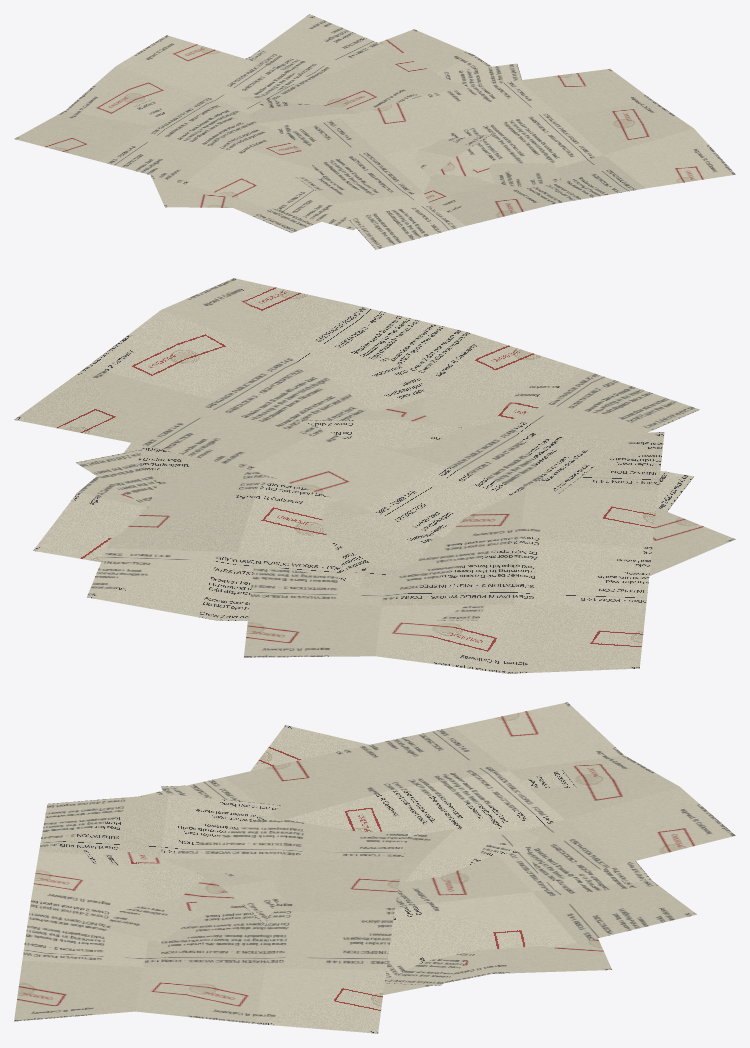
Rendered from PRP_Paper_Pile_A.glb.
3 views of the same model, one above another, from view 1: azimuth 30°, elevation 25°; view 2: azimuth 150°, elevation 25°; view 3: azimuth 270°, elevation 25° (orthographic). The views are drawn at different scales.
Parts seen in each view (by area): view 1: Sheet4, Sheet3, Sheet2, Sheet1, Sheet0; view 2: Sheet4, Sheet3, Sheet2, Sheet1, Sheet0; view 3: Sheet4, Sheet3, Sheet2, Sheet1, Sheet0.
Boxes of the visible parts, x1,y1,x2,y2 form: Sheet4: (278,69,735,249); Sheet3: (14,35,493,230); Sheet2: (133,14,494,212); Sheet1: (151,63,561,208); Sheet0: (234,29,491,232); Sheet4: (14,278,699,537); Sheet3: (243,419,664,673); Sheet2: (87,386,559,620); Sheet1: (75,355,735,578); Sheet0: (33,443,693,562); Sheet4: (14,794,408,1033); Sheet3: (140,702,735,925); Sheet2: (83,770,696,977); Sheet1: (101,725,526,985); Sheet0: (161,785,611,994).
Size of the model in its own units: 0.8917 by 0.0344 by 0.8311.
1 material, 1 textured.
